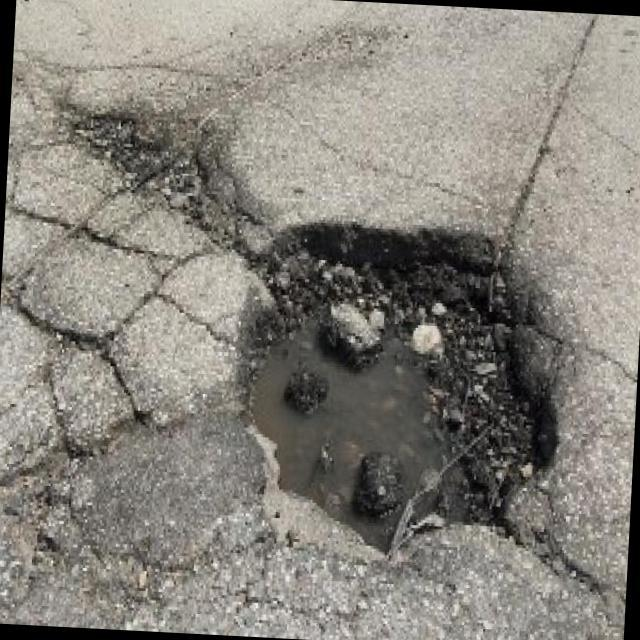Pothole: (255, 227, 534, 550)
